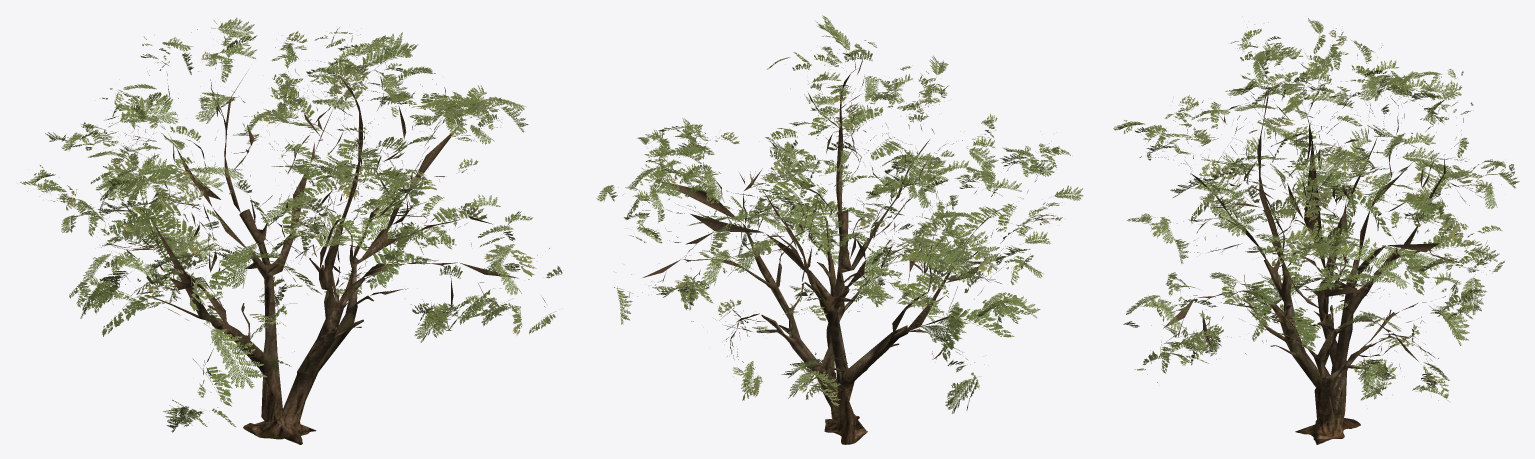
File: ph-jacaranda-tree.lod1.glb
3 renders of one model, left to right at view 1: azimuth 30°, elevation 25°; view 2: azimuth 150°, elevation 25°; view 3: azimuth 270°, elevation 25°, orthographic. The views are drawn at different scales.
Visible parts, largest first — view 1: jacaranda_tree_LOD0; view 2: jacaranda_tree_LOD0; view 3: jacaranda_tree_LOD0.
Boxes of the visible parts, x1,y1,x2,y2 form: jacaranda_tree_LOD0: (20,17,562,444); jacaranda_tree_LOD0: (596,15,1083,444); jacaranda_tree_LOD0: (1113,18,1519,444).
Size of the model in its own units: 14.54 by 11.47 by 11.06.
Materials: 3 (3 with a texture image).
